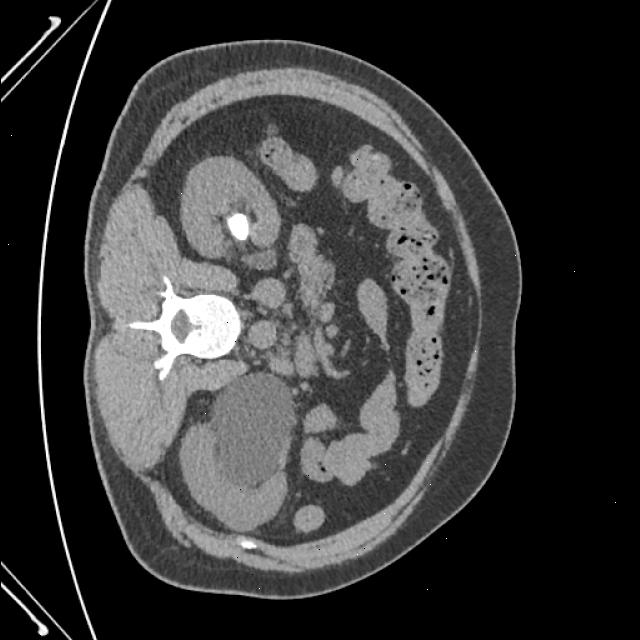kidneystone: (226, 215, 246, 240)
